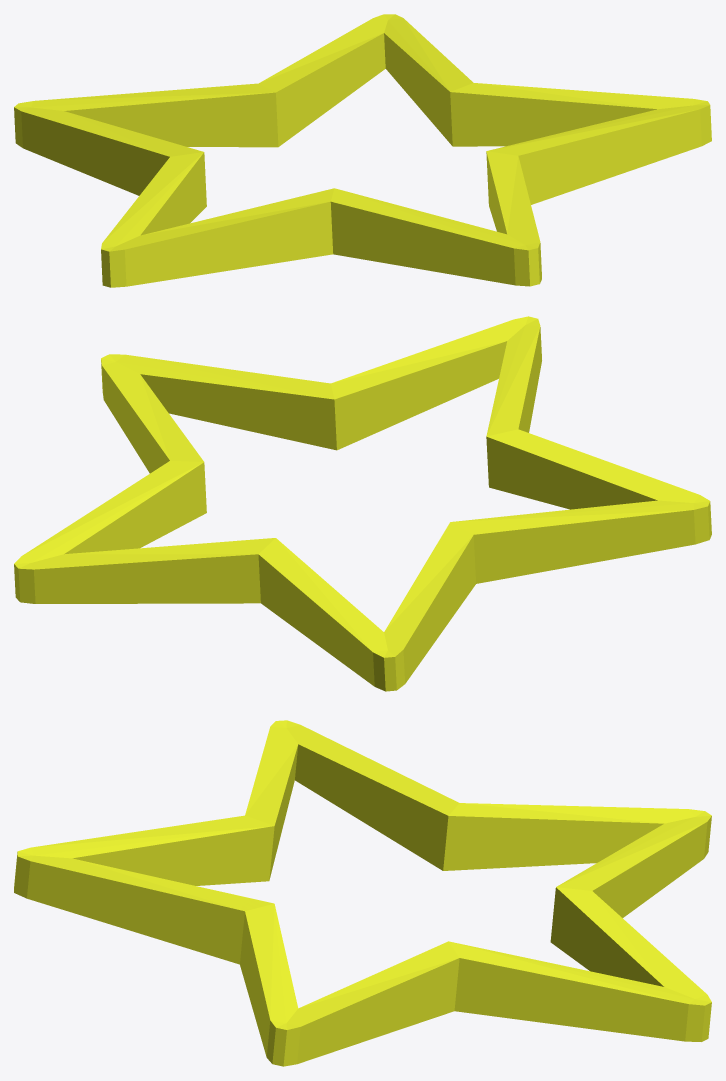
Rendered from Ling.obj.
3 views of the same model, one above another, from view 1: azimuth 30°, elevation 25°; view 2: azimuth 150°, elevation 25°; view 3: azimuth 270°, elevation 25° (orthographic). The views are drawn at different scales.
Visible parts, largest first — view 1: P_Ling; view 2: P_Ling; view 3: P_Ling.
Part boxes in pixels (x1,y1,x2,y2): P_Ling: [14, 14, 711, 287]; P_Ling: [14, 316, 711, 691]; P_Ling: [14, 720, 711, 1066].
Bounding box in the file's own units: 1.81 × 0.2493 × 1.72.
Materials: 1 (1 with a texture image).
